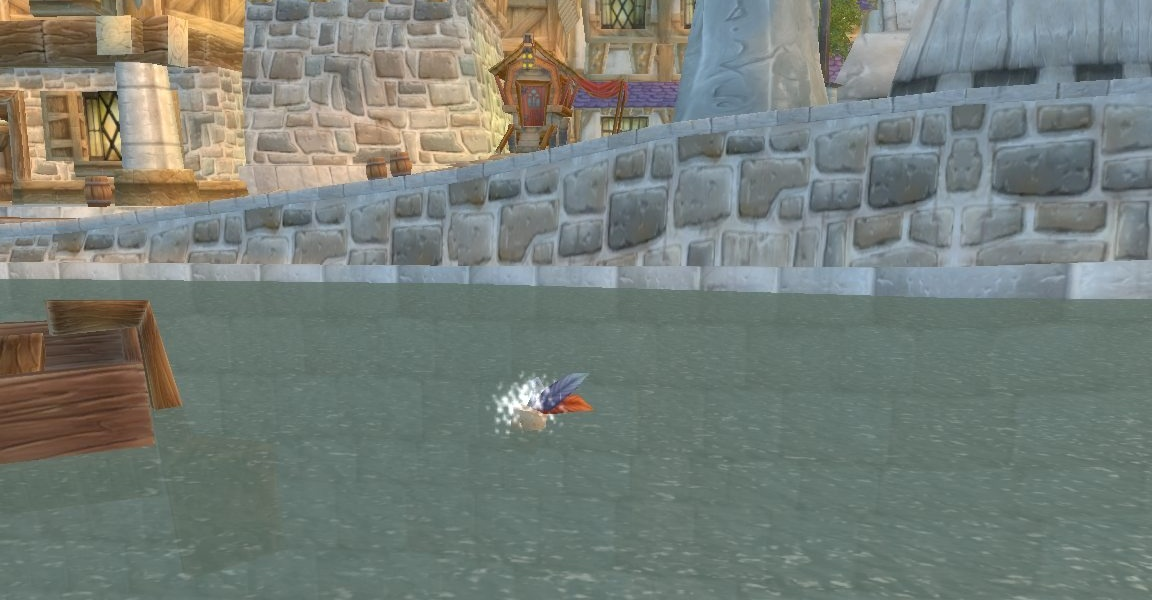Splash: (495, 368, 594, 436)
